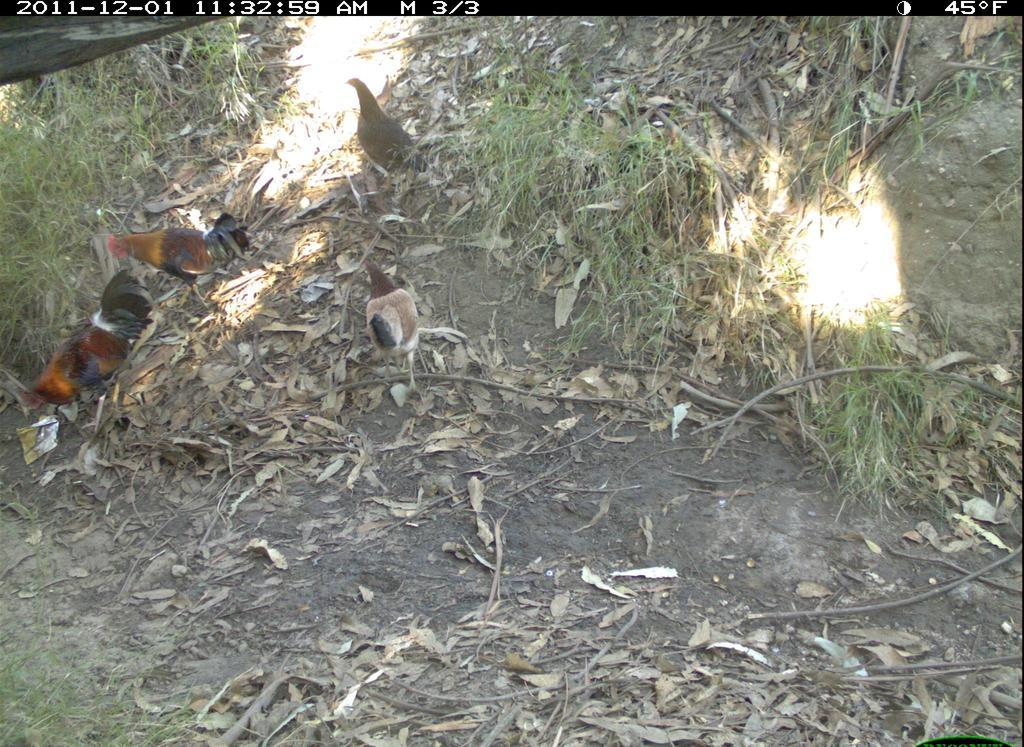bird: (22, 273, 168, 431), (107, 214, 258, 306), (341, 75, 434, 204), (355, 248, 437, 387)
